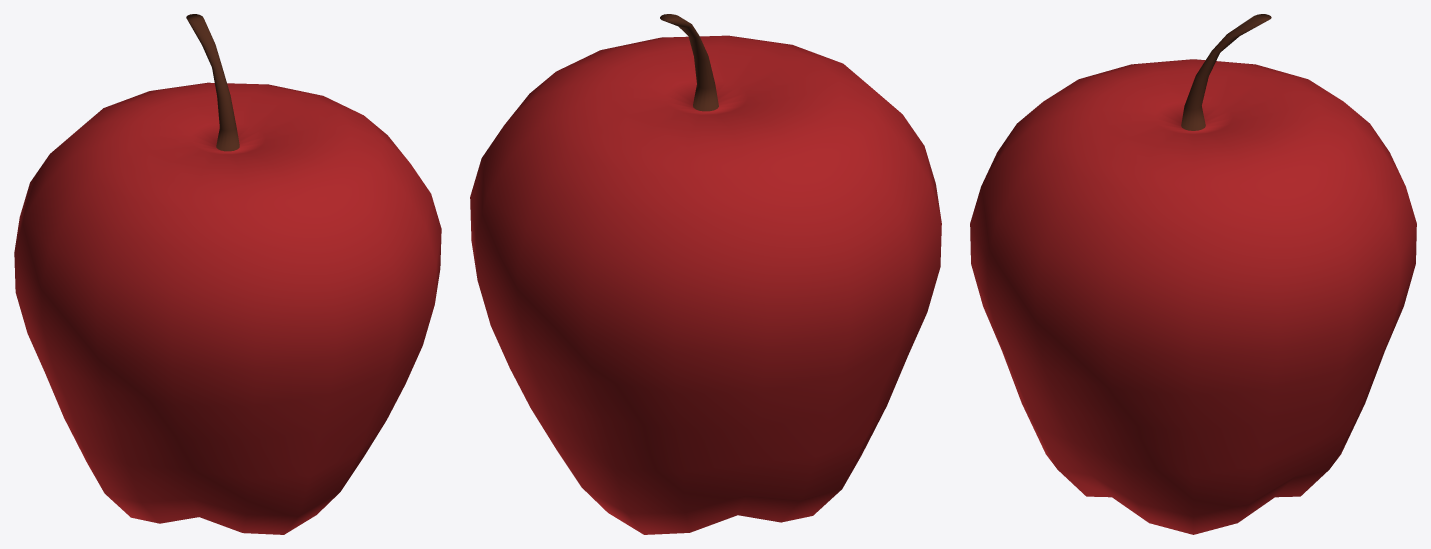
Rendered from Apple.fbx.
3 views of the same model, side by side, from view 1: azimuth 30°, elevation 25°; view 2: azimuth 150°, elevation 25°; view 3: azimuth 270°, elevation 25° (orthographic). The views are drawn at different scales.
Visible parts, largest first — view 1: Sphere; view 2: Sphere; view 3: Sphere.
Boxes of the visible parts, x1,y1,x2,y2 form: Sphere: (14,14,441,534); Sphere: (470,14,941,534); Sphere: (970,14,1416,534).
Size of the model in its own units: 194 by 225 by 194.
